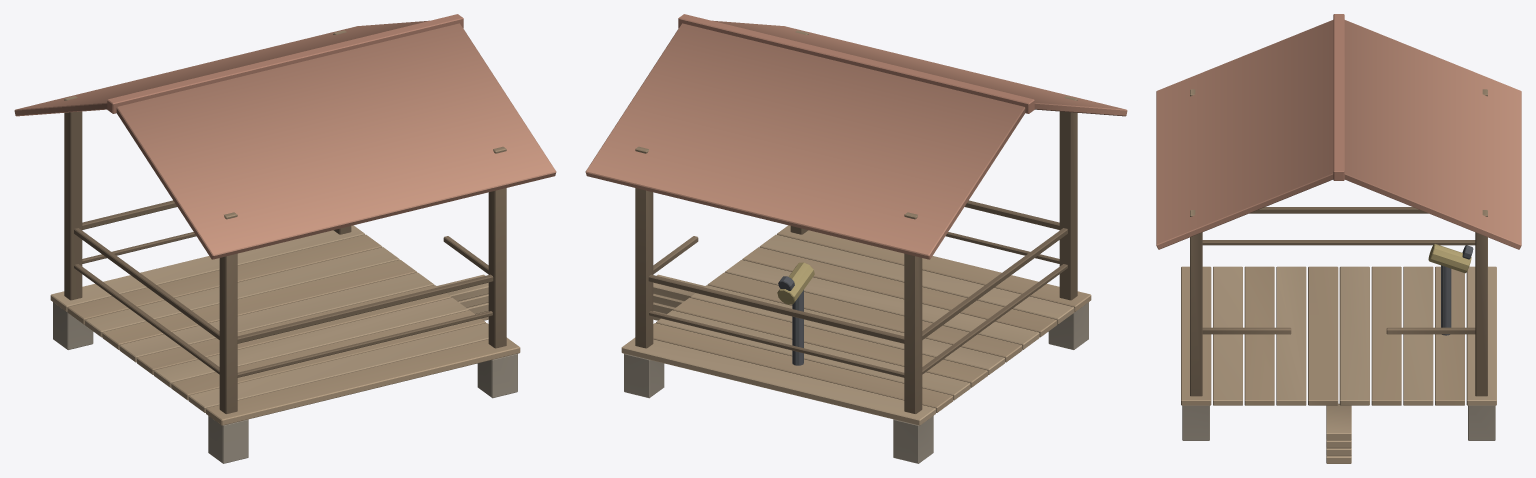
File: lookout.glb
3 views of the same model, side by side, from view 1: azimuth 30°, elevation 25°; view 2: azimuth 150°, elevation 25°; view 3: azimuth 270°, elevation 25° (orthographic). The views are drawn at different scales.
Size of the model in its own units: 5.1 by 3.93 by 4.61.
